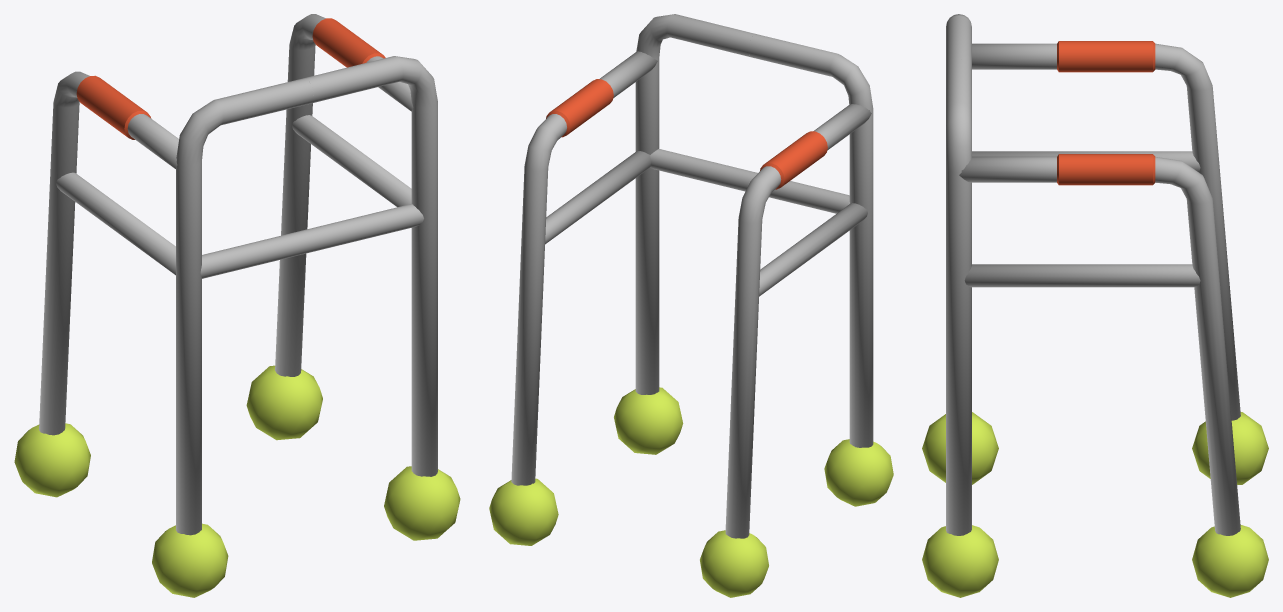
The model's file is walker.fbx.
The picture shows the model from 3 angles, left to right: view 1: azimuth 30°, elevation 25°; view 2: azimuth 150°, elevation 25°; view 3: azimuth 270°, elevation 25°; orthographic projection. The views are drawn at different scales.
Visible parts, largest first — view 1: Walker; view 2: Walker; view 3: Walker.
Part boxes in pixels (<box>): Walker: <box>14,14,460,597</box>; Walker: <box>489,14,893,597</box>; Walker: <box>922,14,1268,597</box>.
Size of the model in its own units: 132 by 136 by 207.
